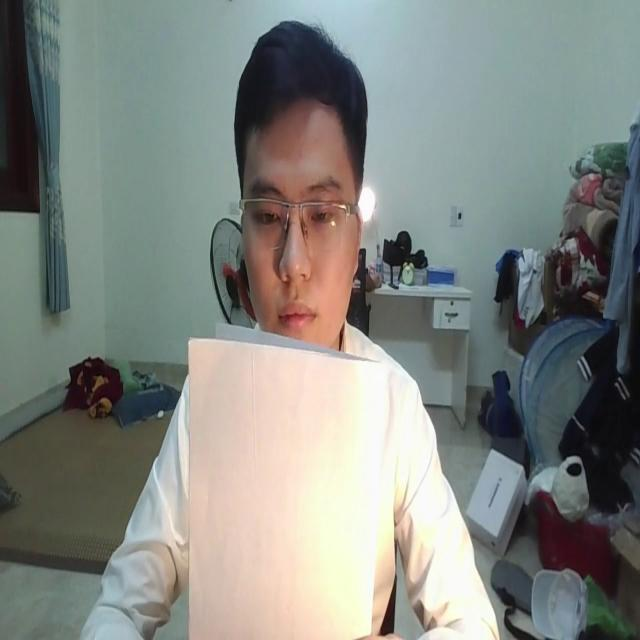book: (180, 308, 388, 640)
student: (58, 26, 497, 640)
